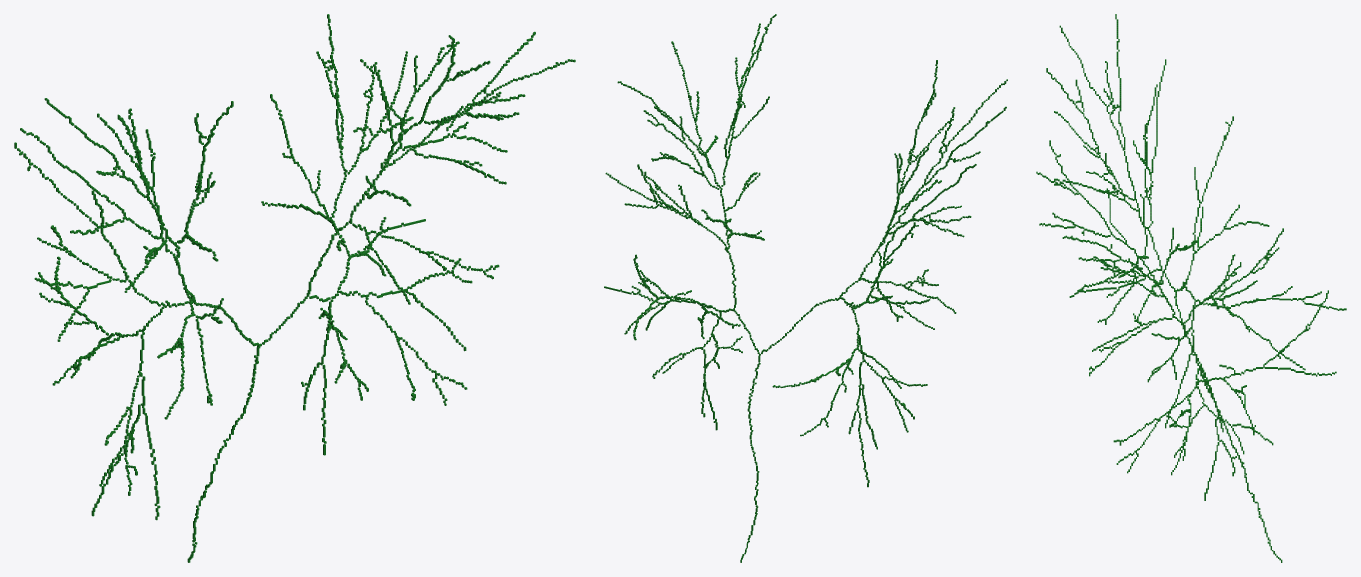
The model's file is segmentation_skeleton.obj.
The picture shows the model from 3 angles, left to right: view 1: azimuth 30°, elevation 25°; view 2: azimuth 150°, elevation 25°; view 3: azimuth 270°, elevation 25°; orthographic projection. The views are drawn at different scales.
Bounding box in the file's own units: 11.79 × 13.51 × 8.25.
